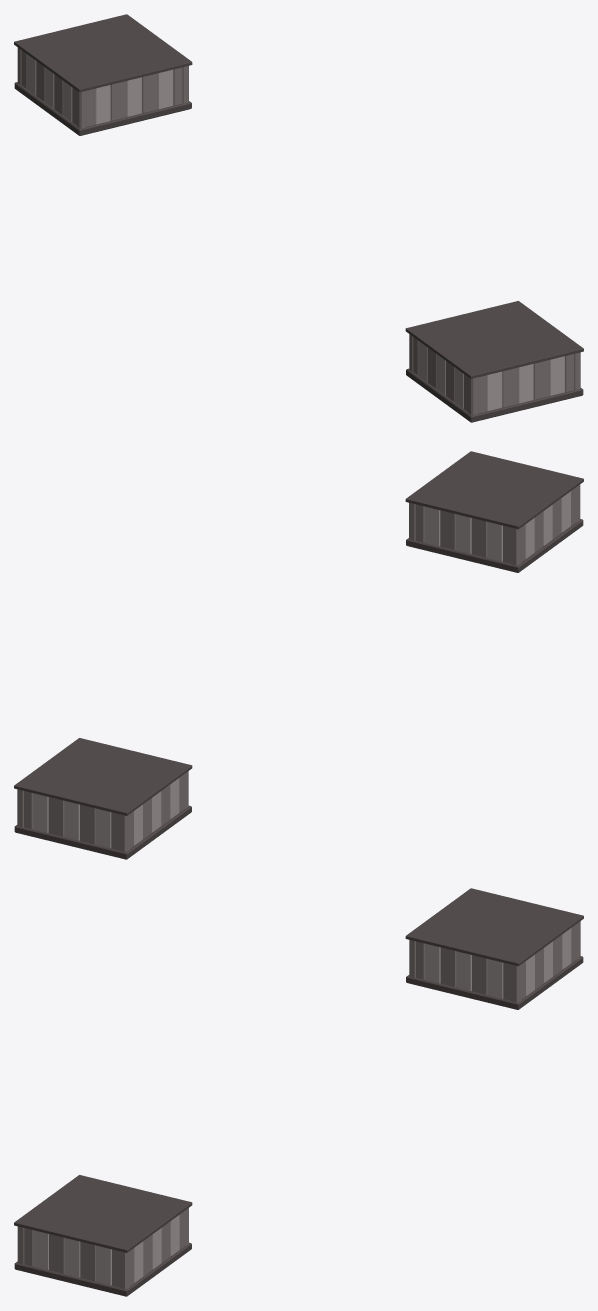
File: tables.glb
The picture shows the model from 3 angles, top to bottom: view 1: azimuth 30°, elevation 25°; view 2: azimuth 150°, elevation 25°; view 3: azimuth 330°, elevation 25°; orthographic projection.
Parts seen in each view (by area): view 1: tableTop (1), tableTop (4), sides (1), sides (4), tableFeet (4), tableFeet (1); view 2: tableTop (1), tableTop (4), sides (1), sides (4), tableFeet (1), tableFeet (4); view 3: tableTop (1), tableTop (4), sides (1), sides (4), tableFeet (1), tableFeet (4).
Part boxes in pixels (<box>): tableTop (1): <box>405,301,583,378</box>; tableTop (4): <box>14,14,192,92</box>; sides (1): <box>409,334,580,415</box>; sides (4): <box>17,47,188,128</box>; tableFeet (4): <box>14,82,191,135</box>; tableFeet (1): <box>406,368,583,422</box>; tableTop (1): <box>405,451,583,529</box>; tableTop (4): <box>14,738,192,815</box>; sides (1): <box>409,484,580,565</box>; sides (4): <box>17,771,188,852</box>; tableFeet (1): <box>406,519,583,572</box>; tableFeet (4): <box>14,805,191,859</box>; tableTop (1): <box>14,1175,192,1252</box>; tableTop (4): <box>405,888,583,966</box>; sides (1): <box>17,1208,188,1289</box>; sides (4): <box>409,921,580,1002</box>; tableFeet (1): <box>14,1242,191,1296</box>; tableFeet (4): <box>406,956,583,1009</box>.
Size of what is drawn, in the model's own units: 2.01 by 0.8 by 14.01.
1 material, 1 textured.
